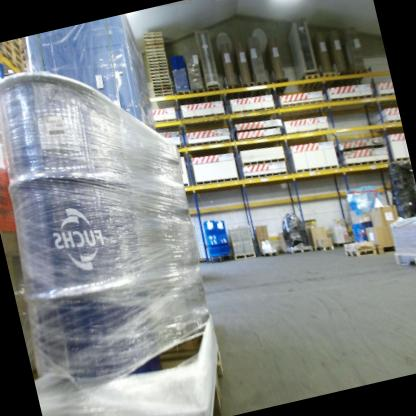pallet: (31, 319, 243, 416), (320, 89, 377, 118), (274, 94, 328, 123), (195, 170, 243, 199), (227, 101, 278, 128), (188, 133, 233, 162), (0, 42, 29, 81), (341, 152, 392, 174), (243, 164, 289, 186), (183, 108, 228, 130), (238, 152, 287, 172), (294, 158, 341, 177), (2, 39, 25, 70), (313, 68, 340, 94), (295, 70, 324, 94), (344, 244, 379, 263), (152, 114, 180, 137), (392, 247, 416, 273), (266, 75, 291, 96), (155, 92, 179, 112), (221, 82, 244, 101), (189, 83, 208, 104), (252, 78, 271, 99), (7, 39, 25, 61), (286, 243, 314, 257), (175, 85, 193, 105), (239, 78, 257, 98), (232, 250, 257, 264), (373, 89, 396, 104), (205, 84, 224, 102), (335, 68, 354, 85), (352, 66, 369, 84), (378, 117, 401, 129), (376, 241, 395, 255), (334, 240, 353, 251), (144, 35, 163, 46), (262, 247, 279, 259), (393, 154, 410, 166), (150, 71, 170, 81), (150, 68, 170, 78), (150, 62, 169, 72), (147, 50, 166, 60), (10, 38, 23, 52), (149, 65, 169, 74), (145, 39, 163, 49), (143, 32, 163, 41), (143, 29, 163, 38), (154, 88, 176, 96), (153, 82, 172, 91), (149, 59, 168, 68), (146, 46, 165, 55), (146, 44, 165, 53), (153, 78, 170, 87), (151, 75, 170, 83), (148, 57, 167, 65), (147, 54, 166, 62), (320, 243, 336, 252), (154, 85, 172, 93), (176, 141, 184, 153), (311, 245, 321, 253), (182, 182, 190, 190)
